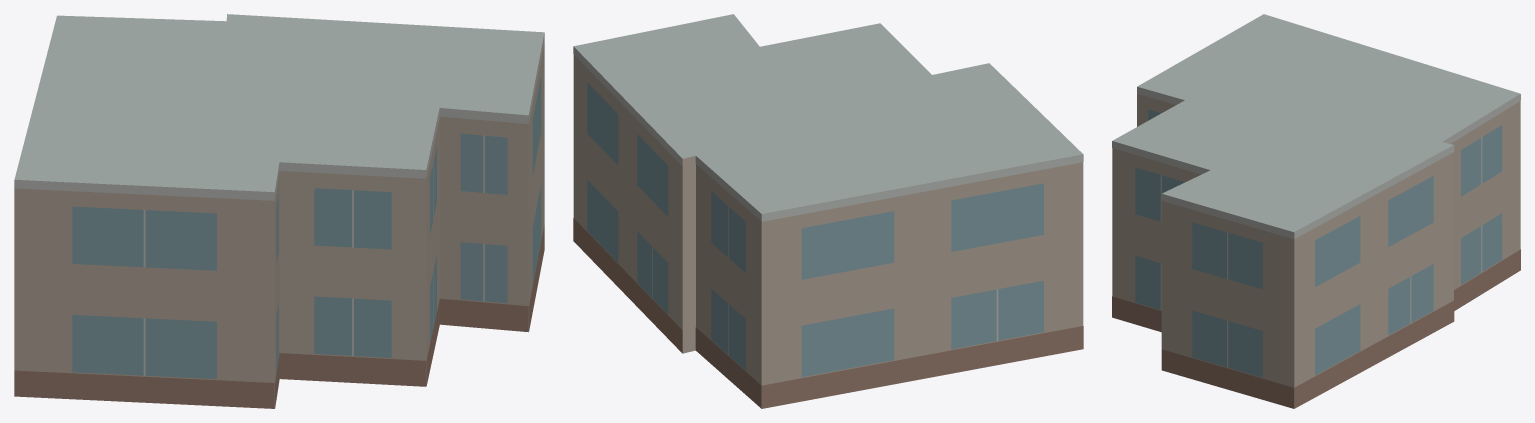
Rendered from survey-upis-32723124.glb.
The picture shows the model from 3 angles, left to right: view 1: azimuth 30°, elevation 25°; view 2: azimuth 150°, elevation 25°; view 3: azimuth 270°, elevation 25°; orthographic projection. The views are drawn at different scales.
Visible parts, largest first — view 1: survey-upis-32723124.tmp; view 2: survey-upis-32723124.tmp; view 3: survey-upis-32723124.tmp.
Part boxes in pixels (left/top/right/bottom): survey-upis-32723124.tmp: left=14, top=14, right=544, bottom=408; survey-upis-32723124.tmp: left=573, top=14, right=1083, bottom=408; survey-upis-32723124.tmp: left=1112, top=14, right=1520, bottom=408.
Bounding box in the file's own units: 16.18 × 6.1 × 12.8.
